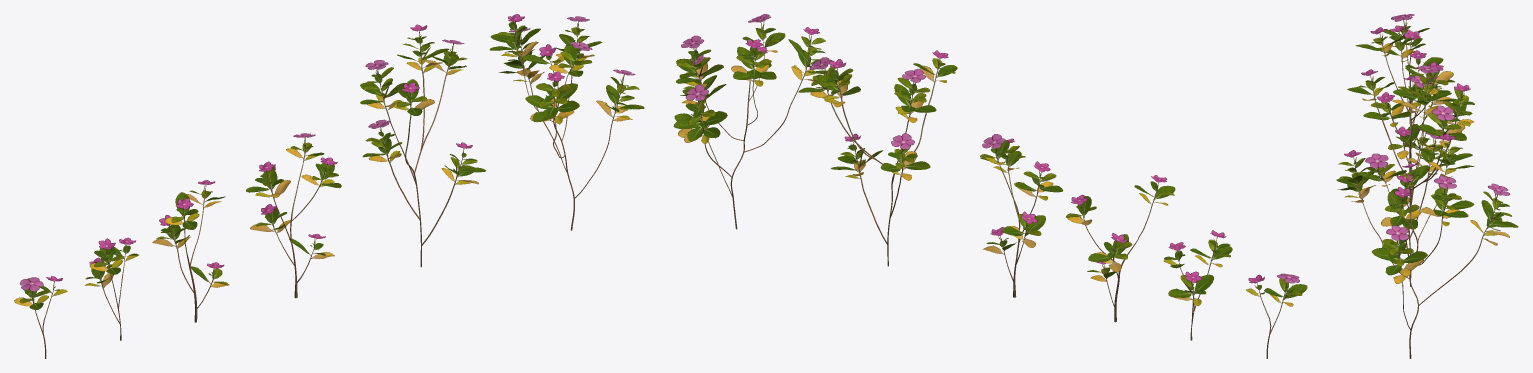
File: flower-bed.glb
3 renders of one model, left to right at view 1: azimuth 30°, elevation 25°; view 2: azimuth 150°, elevation 25°; view 3: azimuth 270°, elevation 25°, orthographic. The views are drawn at different scales.
Visible parts, largest first — view 1: periwinkle_plant_01_LOD0, periwinkle_plant_02_LOD0, periwinkle_plant_03_LOD0, periwinkle_plant_04_LOD0, periwinkle_plant_05_LOD0, periwinkle_plant_06_LOD0; view 2: periwinkle_plant_01_LOD0, periwinkle_plant_02_LOD0, periwinkle_plant_03_LOD0, periwinkle_plant_04_LOD0, periwinkle_plant_05_LOD0, periwinkle_plant_06_LOD0; view 3: periwinkle_plant_01_LOD0, periwinkle_plant_02_LOD0, periwinkle_plant_03_LOD0, periwinkle_plant_04_LOD0, periwinkle_plant_05_LOD0, periwinkle_plant_06_LOD0.
Part boxes in pixels (x1,y1,x2,y2): periwinkle_plant_01_LOD0: [489, 14, 644, 230]; periwinkle_plant_02_LOD0: [360, 24, 485, 267]; periwinkle_plant_03_LOD0: [246, 133, 341, 298]; periwinkle_plant_04_LOD0: [152, 180, 229, 322]; periwinkle_plant_05_LOD0: [85, 237, 138, 340]; periwinkle_plant_06_LOD0: [14, 276, 67, 358]; periwinkle_plant_01_LOD0: [673, 14, 833, 229]; periwinkle_plant_02_LOD0: [798, 50, 957, 266]; periwinkle_plant_03_LOD0: [980, 134, 1062, 297]; periwinkle_plant_04_LOD0: [1066, 175, 1175, 322]; periwinkle_plant_05_LOD0: [1163, 230, 1232, 340]; periwinkle_plant_06_LOD0: [1246, 273, 1307, 358]; periwinkle_plant_01_LOD0: [1336, 133, 1518, 358]; periwinkle_plant_02_LOD0: [1347, 65, 1474, 286]; periwinkle_plant_03_LOD0: [1363, 75, 1440, 207]; periwinkle_plant_04_LOD0: [1355, 27, 1455, 171]; periwinkle_plant_05_LOD0: [1377, 25, 1454, 123]; periwinkle_plant_06_LOD0: [1383, 14, 1429, 103].
Bounding box in the file's own units: 1.24 × 0.4107 × 0.3207.
Materials: 1 (1 with a texture image).
